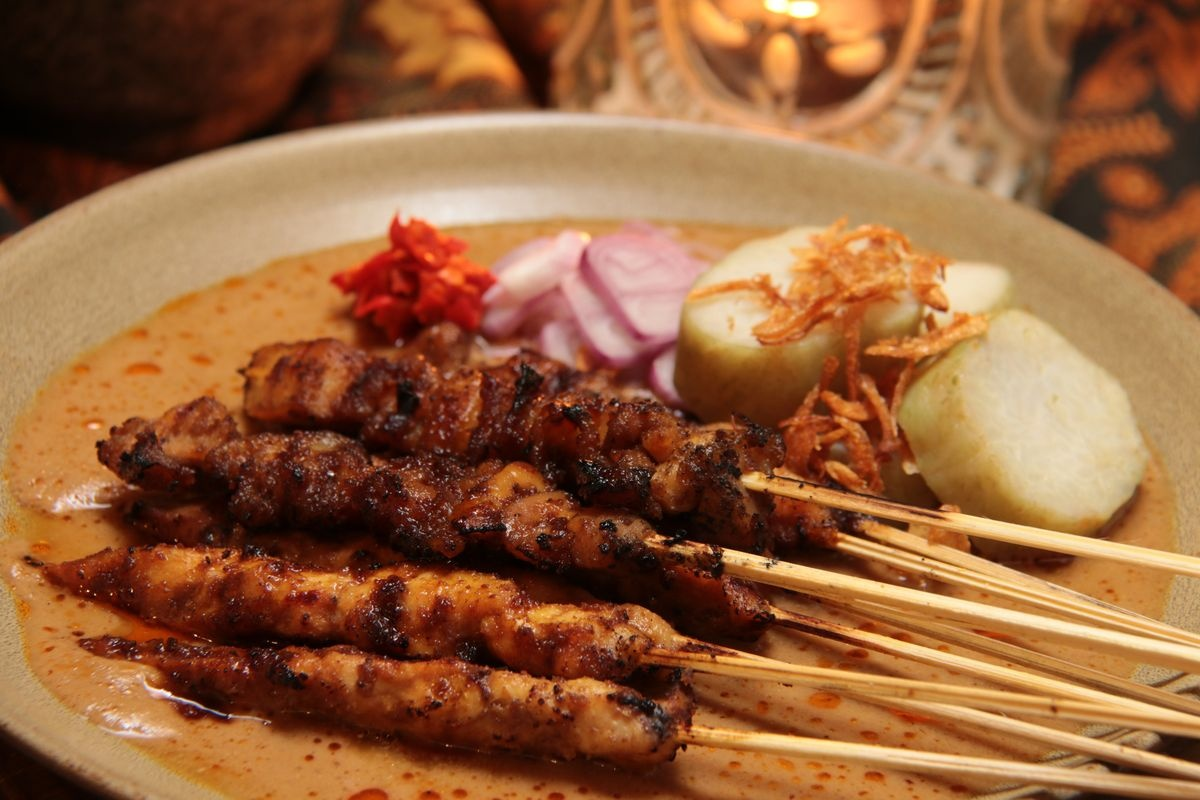sate: (29, 281, 1013, 775)
